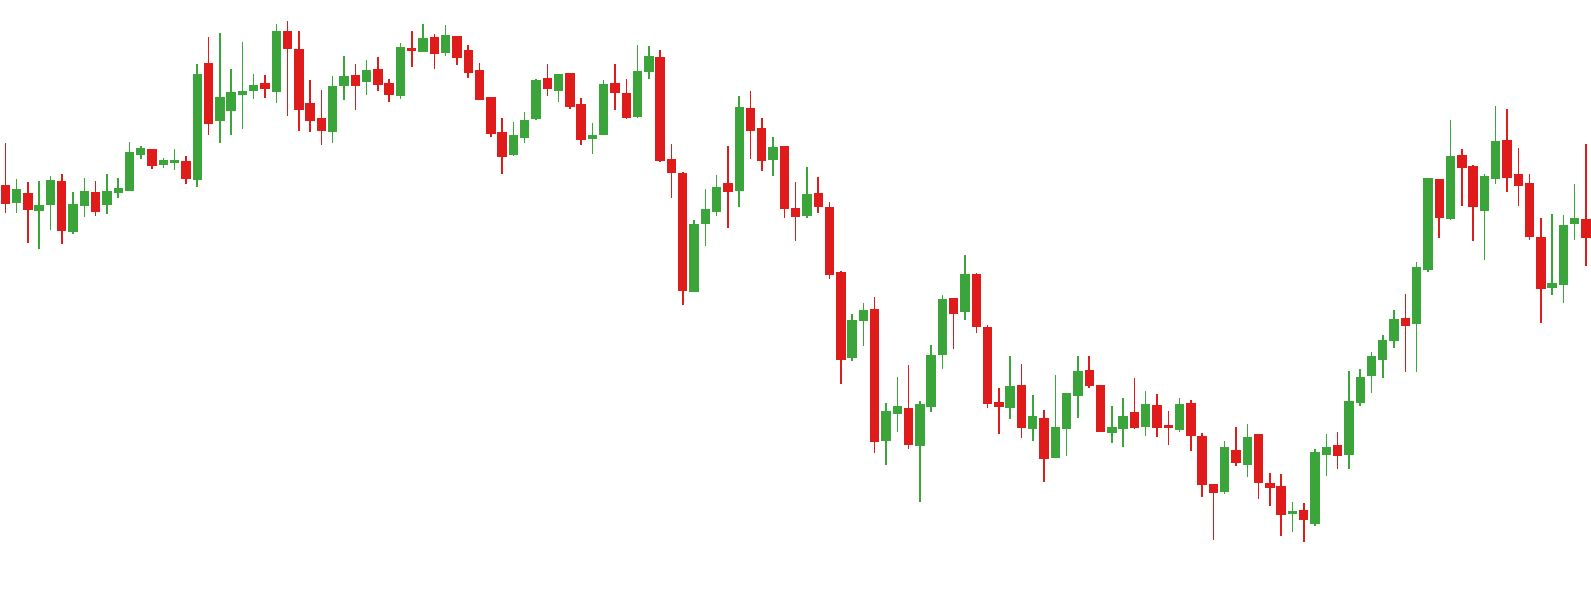buy: (1205, 471, 1297, 544)
sell: (542, 42, 667, 116), (205, 19, 292, 96)
